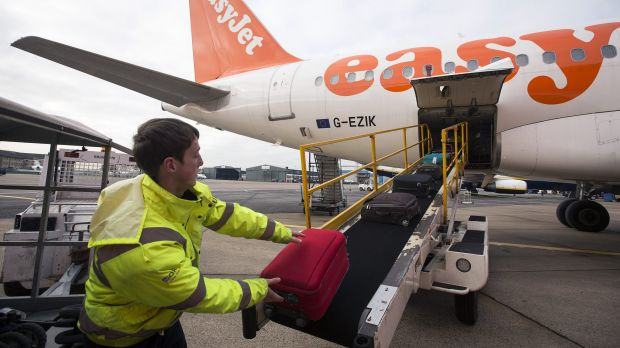baggagetruck: (233, 110, 506, 340)
